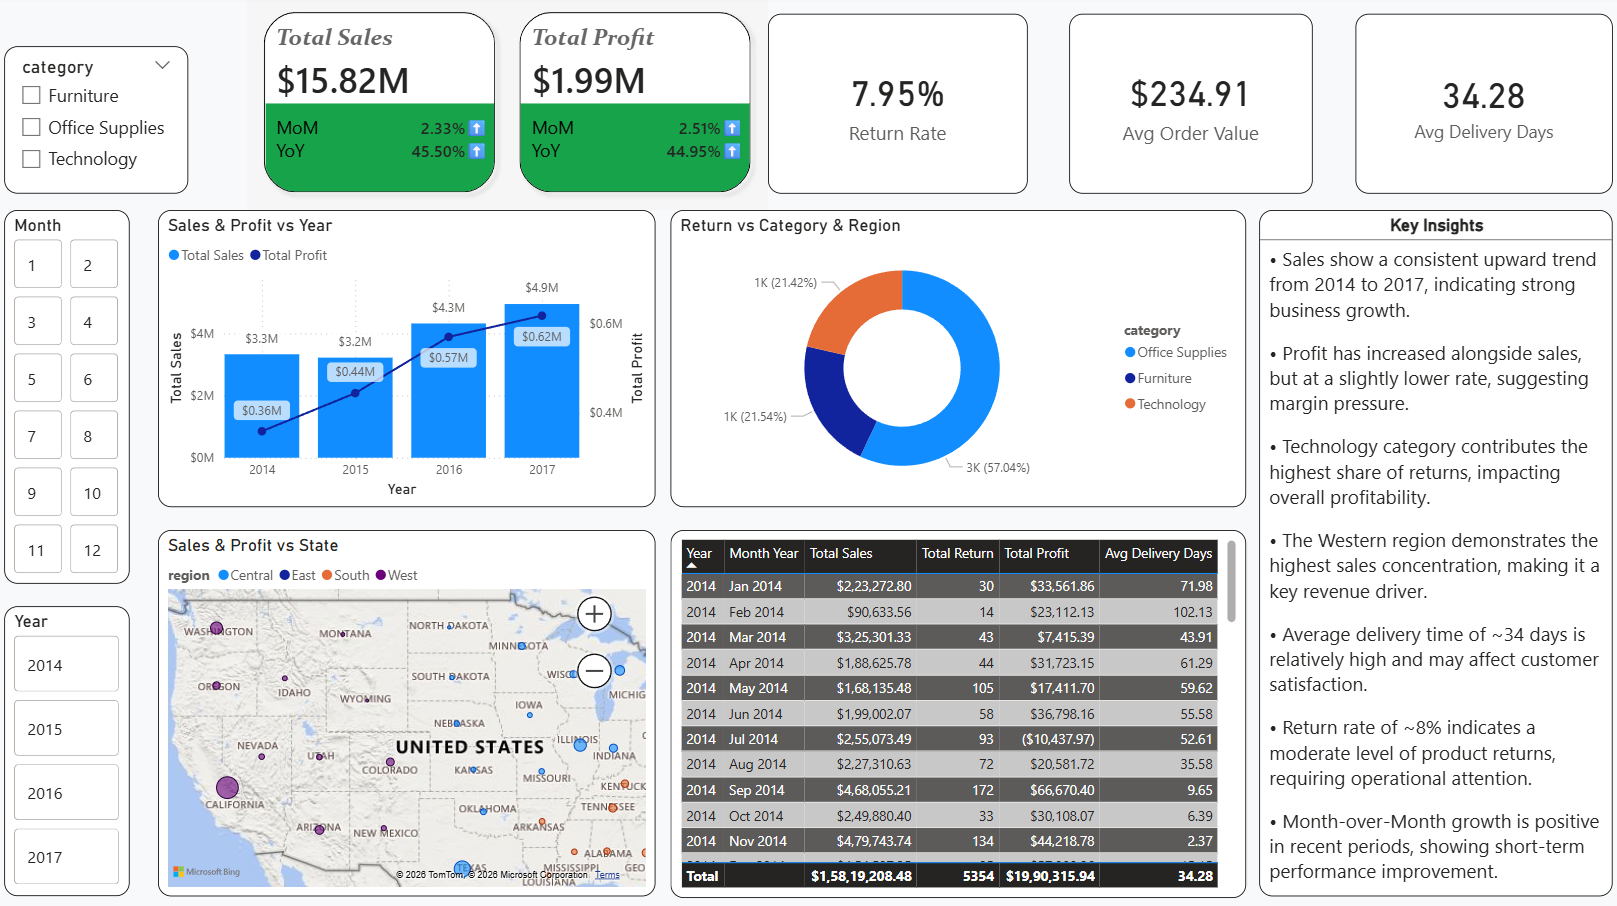

The page's visual inventory and layout, read from the dashboard file:
{"tool":"powerbi","page":{"name":"Page 1","canvas":[1600,900],"ordinal":0},"visuals":[{"type":"card","fields":{"Values":["Key_measure.Avg Delivery Days"]},"box":[1338.7,18.4,253,176.9],"z":0},{"type":"card","fields":{"Values":["Key_measure.Return Rate"]},"box":[761.5,18.4,255.5,176.9],"z":1000},{"type":"card","fields":{"Values":["Key_measure.Avg Order Value"]},"box":[1057.5,18.4,239.5,176.9],"z":2000},{"type":"cardVisual","fields":{"Data":["Key_measure.Total Sales","Key_measure.Total Profit"]},"box":[249.3,0,512.1,211.2],"z":3000},{"type":"advancedSlicerVisual","fields":{"Values":["calendar.Month"]},"box":[11.6,211.3,123,367.6],"z":4000},{"type":"advancedSlicerVisual","fields":{"Values":["calendar.Year"]},"box":[11.6,600.6,123,285.1],"z":5000},{"type":"map","title":"Sales & Profit vs State ","fields":{"Category":["supply_chain .state"],"Size":["Key_measure.Total Sales"],"Series":["supply_chain .region"]},"box":[162.1,525.3,489.1,360.3],"z":6000},{"type":"donutChart","title":"Return vs Category & Region","fields":{"Category":["supply_chain .category","supply_chain .region"],"Y":["Key_measure.Total Return"]},"box":[665.7,211.3,565.8,292.3],"z":7000},{"type":"lineStackedColumnComboChart","title":"Sales & Profit vs Year","fields":{"Y":["Key_measure.Total Sales"],"Y2":["Key_measure.Total Profit"],"Category":["supply_chain .Year"]},"box":[162.1,211.3,489.1,292.3],"z":8000},{"type":"tableEx","fields":{"Values":["calendar.Year","calendar.Month Year","Key_measure.Total Sales","Key_measure.Total Return","Key_measure.Total Profit","Key_measure.Avg Delivery Days"]},"box":[665.7,525.3,565.8,361.8],"z":9000},{"type":"slicer","fields":{"Values":["supply_chain .category"]},"box":[11.6,50.7,180.9,144.7],"z":10000},{"type":"textbox","title":"Key Insights","box":[1244.1,211.2,347.6,674.3],"z":11000}]}

Visuals, with their boxes in screenshot pixels (x1, y1, x2, y2), scaled from the page's 1600x900 canvas onto the 1617x906 screenshot:
card - Key_measure.Avg Delivery Days: <region>1353, 19, 1609, 197</region>
card - Key_measure.Return Rate: <region>770, 19, 1028, 197</region>
card - Key_measure.Avg Order Value: <region>1069, 19, 1311, 197</region>
cardVisual - Key_measure.Total Sales x Key_measure.Total Profit: <region>252, 0, 769, 213</region>
advancedSlicerVisual - calendar.Month: <region>12, 213, 136, 583</region>
advancedSlicerVisual - calendar.Year: <region>12, 605, 136, 892</region>
"Sales & Profit vs State " map: <region>164, 529, 658, 892</region>
"Return vs Category & Region" donutChart: <region>673, 213, 1245, 507</region>
"Sales & Profit vs Year" lineStackedColumnComboChart: <region>164, 213, 658, 507</region>
tableEx - calendar.Year x calendar.Month Year: <region>673, 529, 1245, 893</region>
slicer - supply_chain .category: <region>12, 51, 195, 197</region>
"Key Insights" textbox: <region>1257, 213, 1609, 891</region>
